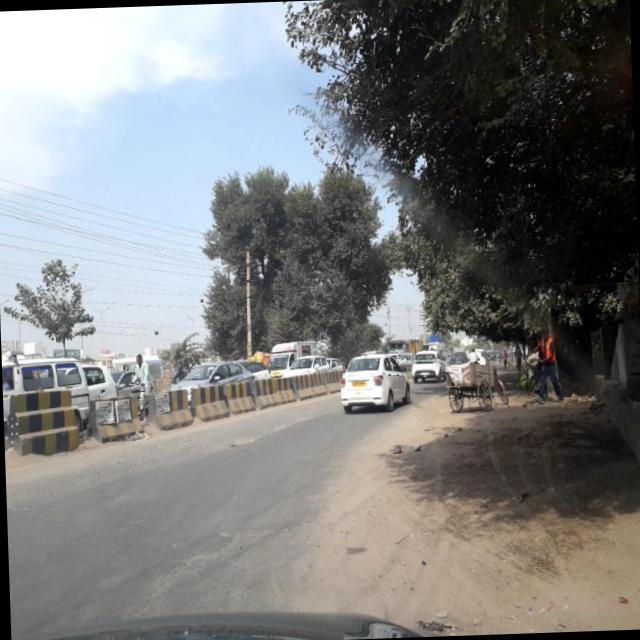crack: (157, 522, 256, 594), (95, 448, 227, 487), (226, 407, 323, 448)
